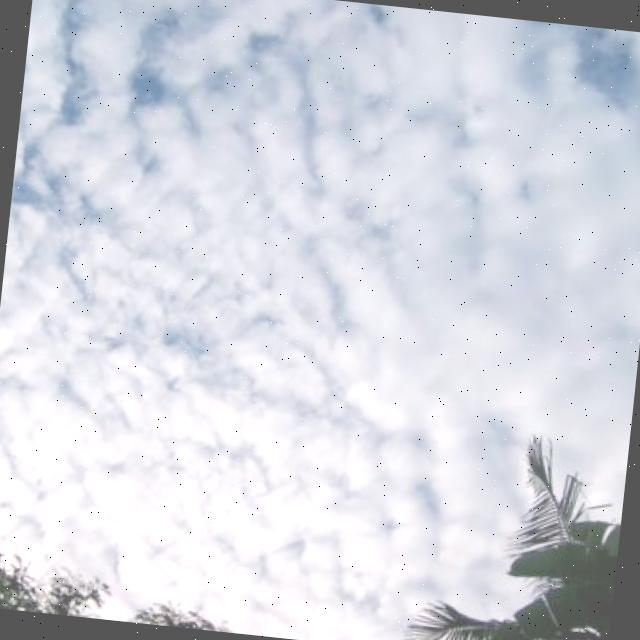Ac: (1, 1, 640, 474)
